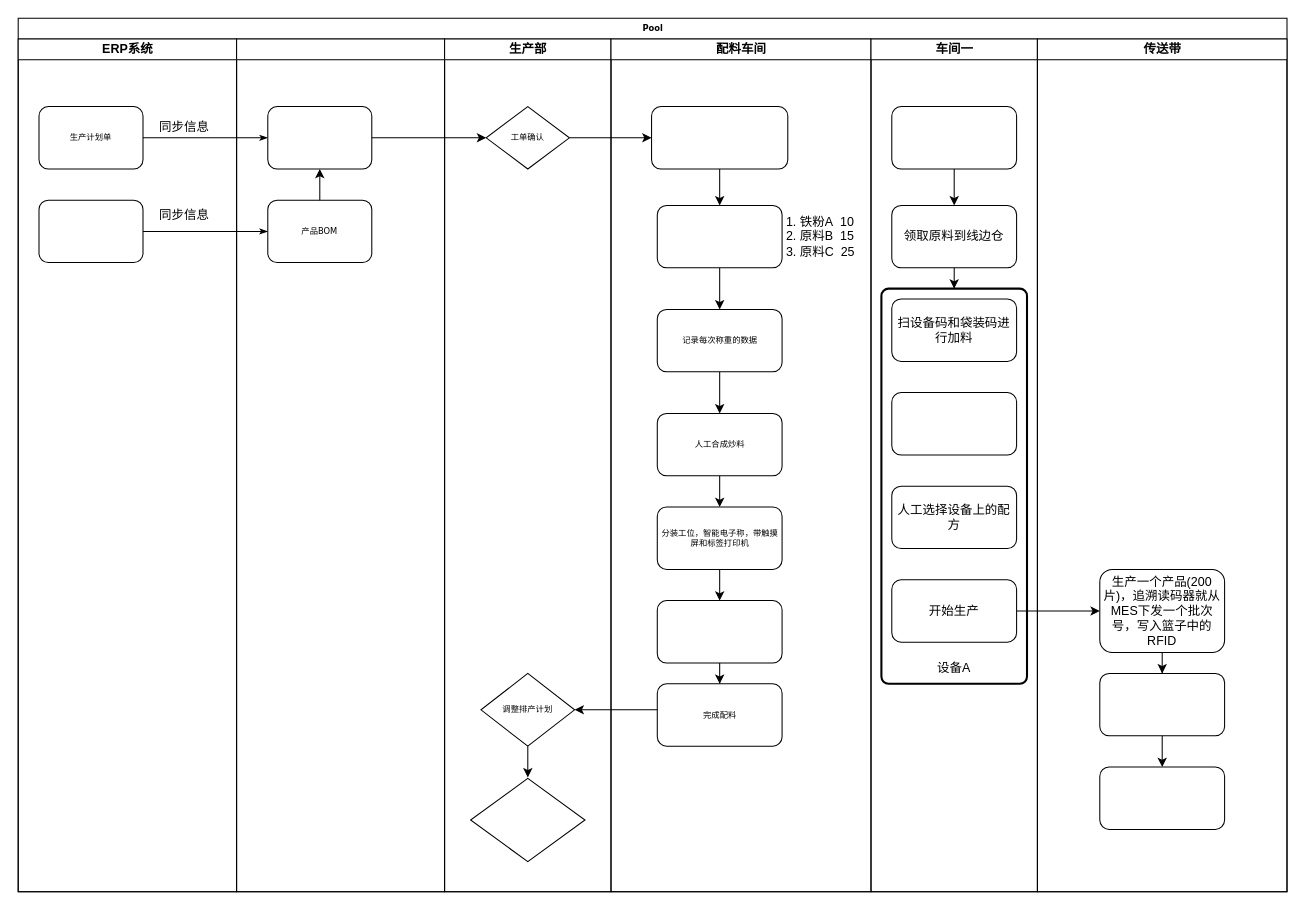
Image size: 1305x910. Some labels were removed from this diagram. Each missing label, with the box of its shape:
BOM单: (38, 199, 143, 263)
MES系统: (236, 38, 445, 892)
一袋一码，一框一码: (656, 600, 782, 663)
下发任务到某车间的设备: (470, 777, 585, 862)
喷码机通过,RFID中的批次号信息进行喷码: (1099, 672, 1225, 736)
换膜先扫设备码在扫卷膜码: (891, 392, 1017, 455)
智能电子称(带触摸屏): (651, 106, 788, 169)
生产工单: (267, 106, 372, 169)
车间主任，在手持PDA或PC中查看生产任务: (891, 106, 1017, 169)
选择生产工单，显示该工单需要的BOM数: (656, 204, 782, 268)
